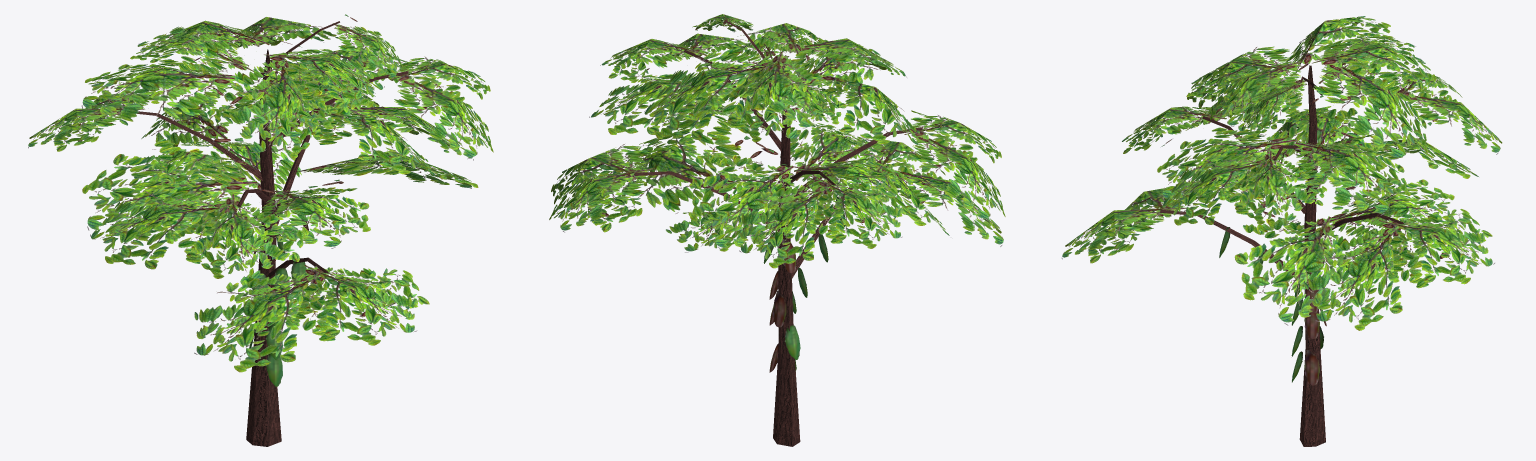
Rendered from tree_cacao_2.dae.
The picture shows the model from 3 angles, left to right: view 1: azimuth 30°, elevation 25°; view 2: azimuth 150°, elevation 25°; view 3: azimuth 270°, elevation 25°; orthographic projection. The views are drawn at different scales.
Visible parts, largest first — view 1: cacao_2; view 2: cacao_2; view 3: cacao_2.
Boxes of the visible parts, x1,y1,x2,y2 form: cacao_2: (28,14,493,446); cacao_2: (549,14,1005,446); cacao_2: (1061,16,1502,446).
Bounding box in the file's own units: 8.33 × 8.15 × 7.45.
